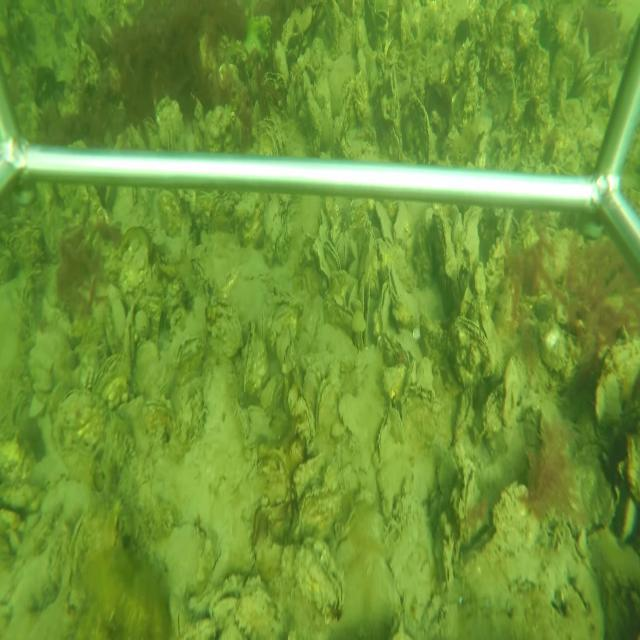Oyster-Closed: (430, 212, 462, 317), (360, 223, 377, 339), (407, 94, 434, 163), (389, 264, 418, 327), (88, 350, 128, 392), (315, 376, 336, 434), (242, 321, 257, 395), (338, 76, 354, 144), (389, 63, 402, 143), (259, 374, 282, 409), (389, 407, 407, 444), (377, 280, 390, 330), (324, 239, 342, 272)
Oyster-Indeterminate: (593, 333, 640, 428), (450, 314, 489, 376), (210, 302, 242, 358), (375, 201, 392, 240)
Oyster-Open: (207, 584, 238, 622)
